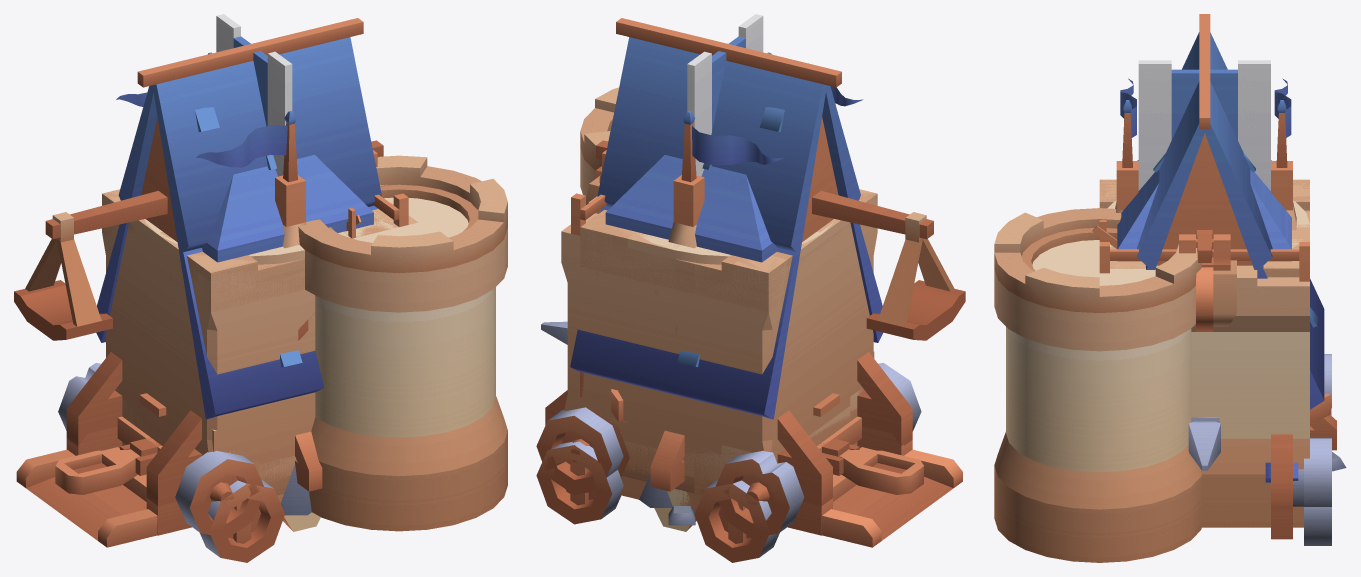
Rendered from castle.glb.
3 renders of one model, left to right at view 1: azimuth 30°, elevation 25°; view 2: azimuth 150°, elevation 25°; view 3: azimuth 270°, elevation 25°, orthographic. The views are drawn at different scales.
Visible parts, largest first — view 1: wall-corner-half-tower, tower-slant-roof, tower-square-roof, siege-trebuchet, catapult (×3), wheel (×3), wall-corner-half, wall-doorway, bridge-draw, wall-pillar, wall-narrow-stairs-rail, flag-banner-long (+10 smaller); view 2: tower-slant-roof, wall-corner-half-tower, wheel (×5), tower-square-roof, siege-trebuchet, catapult (×3), wall-half-modular, wall-narrow-stairs-rail, bridge-draw, wall-corner-half, flag-banner-long, wall-doorway (+18 smaller); view 3: wall-corner-half-tower, wall-half-modular, tower-slant-roof, flag-banner-long, siege-trebuchet, tower-square-roof, weight (×2), wheel (×2), wall-narrow-wood-fence, arrow, siege-catapult, tower-square (+3 smaller).
Boxes of the visible parts, x1=… form: wall-corner-half-tower: x1=102, y1=155, x2=507, y2=531; tower-slant-roof: x1=96, y1=18, x2=381, y2=419; tower-square-roof: x1=102, y1=155, x2=392, y2=311; siege-trebuchet: x1=66, y1=52, x2=322, y2=506; catapult (×3): x1=14, y1=212, x2=140, y2=494; wheel (×3): x1=58, y1=363, x2=284, y2=562; wall-corner-half: x1=102, y1=189, x2=315, y2=462; wall-doorway: x1=105, y1=189, x2=303, y2=459; bridge-draw: x1=16, y1=449, x2=157, y2=547; wall-pillar: x1=102, y1=202, x2=302, y2=443; wall-narrow-stairs-rail: x1=160, y1=208, x2=361, y2=502; flag-banner-long: x1=216, y1=14, x2=292, y2=176; tower-slant-roof: x1=570, y1=18, x2=882, y2=419; wall-corner-half-tower: x1=580, y1=87, x2=877, y2=463; wheel (×5): x1=536, y1=363, x2=921, y2=562; tower-square-roof: x1=580, y1=155, x2=877, y2=312; siege-trebuchet: x1=545, y1=52, x2=912, y2=506; catapult (×3): x1=839, y1=212, x2=965, y2=494; wall-half-modular: x1=561, y1=196, x2=674, y2=469; wall-narrow-stairs-rail: x1=580, y1=219, x2=837, y2=508; bridge-draw: x1=822, y1=449, x2=962, y2=547; wall-corner-half: x1=581, y1=228, x2=877, y2=451; flag-banner-long: x1=687, y1=14, x2=763, y2=176; wall-doorway: x1=675, y1=205, x2=877, y2=451; wall-corner-half-tower: x1=994, y1=179, x2=1299, y2=562; wall-half-modular: x1=1191, y1=268, x2=1309, y2=527; tower-slant-roof: x1=1137, y1=14, x2=1324, y2=409; flag-banner-long: x1=1138, y1=60, x2=1270, y2=190; siege-trebuchet: x1=1115, y1=78, x2=1336, y2=509; tower-square-roof: x1=1099, y1=160, x2=1309, y2=277; weight (×2): x1=1179, y1=234, x2=1236, y2=331; wheel (×2): x1=1304, y1=437, x2=1331, y2=545; wall-narrow-wood-fence: x1=1099, y1=242, x2=1309, y2=281; arrow: x1=1188, y1=417, x2=1220, y2=470; siege-catapult: x1=1265, y1=462, x2=1298, y2=539; tower-square: x1=1099, y1=180, x2=1309, y2=268.
Bounding box in the file's own units: 2.12 × 2.32 × 1.67.
1 material, 1 textured.
